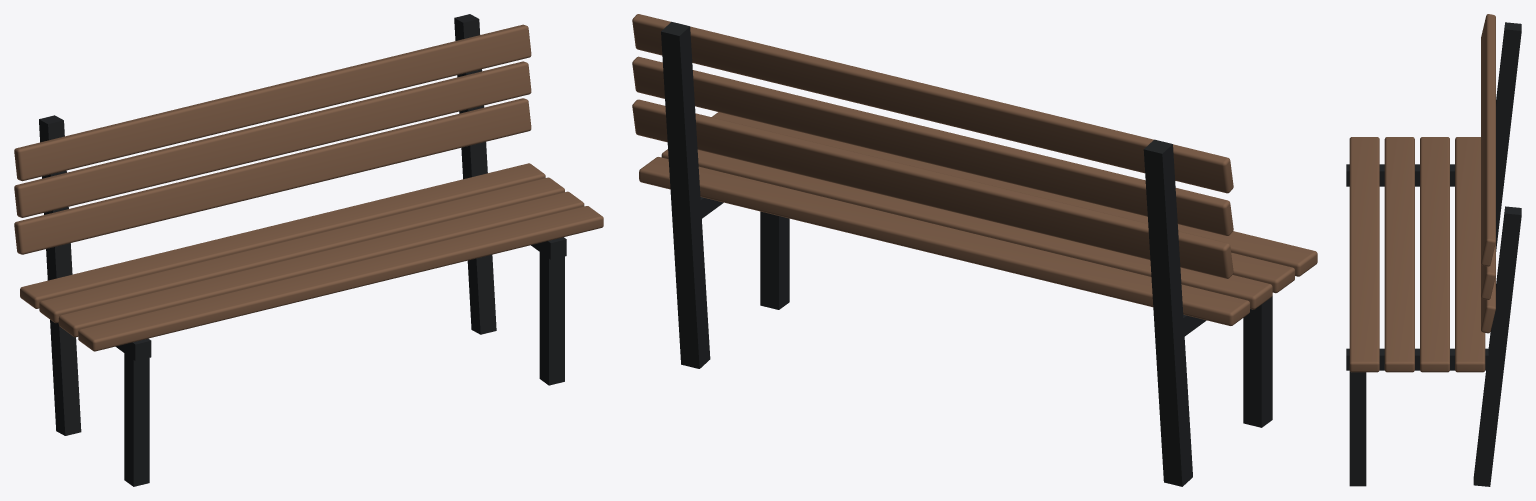
Rendered from bangku.glb.
3 renders of one model, left to right at view 1: azimuth 30°, elevation 25°; view 2: azimuth 150°, elevation 25°; view 3: azimuth 270°, elevation 25°, orthographic. The views are drawn at different scales.
Parts seen in each view (by area): view 1: sandar0, sandar1, sandar2, duduk0, duduk1, duduk2, duduk3, kakiB-1, kakiB1, kakiD-1, kakiD1; view 2: sandar2, sandar0, sandar1, duduk3, kakiB-1, kakiB1, duduk2, duduk0, kakiD-1, kakiD1, duduk1; view 3: duduk0, duduk1, duduk2, duduk3, kakiB1, sandar2, kakiB-1, kakiD1, palang1, sandar0, sandar1, palang-1.
Boxes of the visible parts, x1,y1,x2,y2 form: sandar0: (14,98,531,254); sandar1: (14,61,531,217); sandar2: (14,24,531,181); duduk0: (78,206,603,351); duduk1: (58,191,584,337); duduk2: (39,177,564,322); duduk3: (20,163,545,308); kakiB-1: (39,115,81,435); kakiB1: (454,14,496,334); kakiD-1: (124,338,149,486); kakiD1: (539,237,564,385); sandar2: (632,14,1233,193); sandar0: (632,99,1233,278); sandar1: (632,56,1233,235); duduk3: (639,157,1249,325); kakiB-1: (1143,139,1192,486); kakiB1: (661,21,710,368); duduk2: (661,149,1272,309); duduk0: (711,112,1317,276); kakiD-1: (1243,296,1272,427); kakiD1: (760,211,789,309); duduk1: (1231,252,1294,293); duduk0: (1349,137,1379,372); duduk1: (1384,137,1414,372); duduk2: (1420,137,1449,372); duduk3: (1455,137,1485,372); kakiB1: (1473,206,1521,486); sandar2: (1481,14,1495,266); kakiB-1: (1496,22,1521,251); kakiD1: (1349,371,1366,486); palang1: (1346,348,1492,370); sandar0: (1481,276,1495,333); sandar1: (1481,243,1495,299); palang-1: (1346,164,1454,186).
Size of the model in its own units: 1.6 by 0.9003 by 0.5239.
